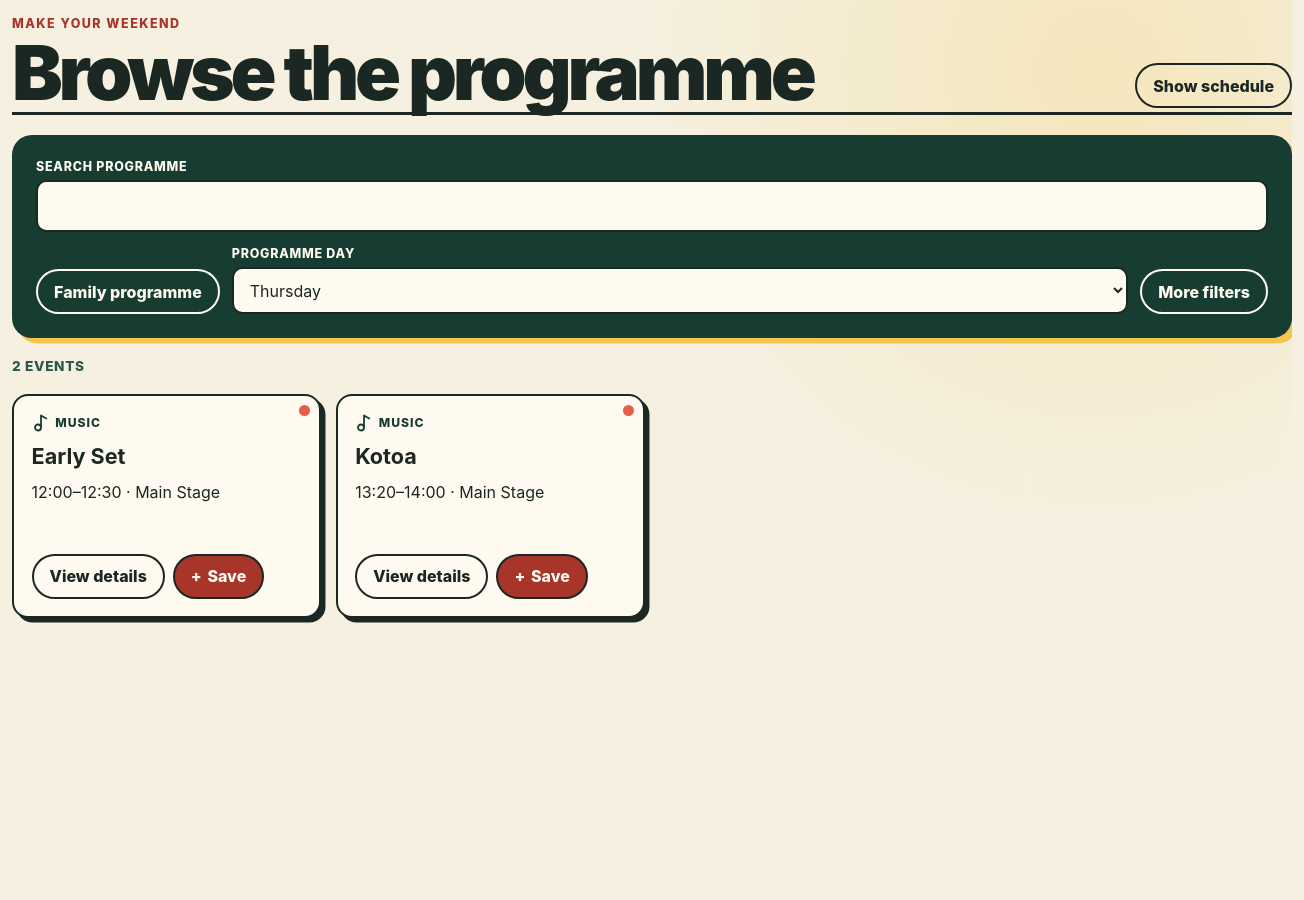
Test case: BrowseView › keeps before-festival phone schedules chronological without live controls
What coordinates should you click on to do the following:
click the button "Show schedule"
I would click on:
 (1214, 86)
Its box is [1135,63,1292,108].
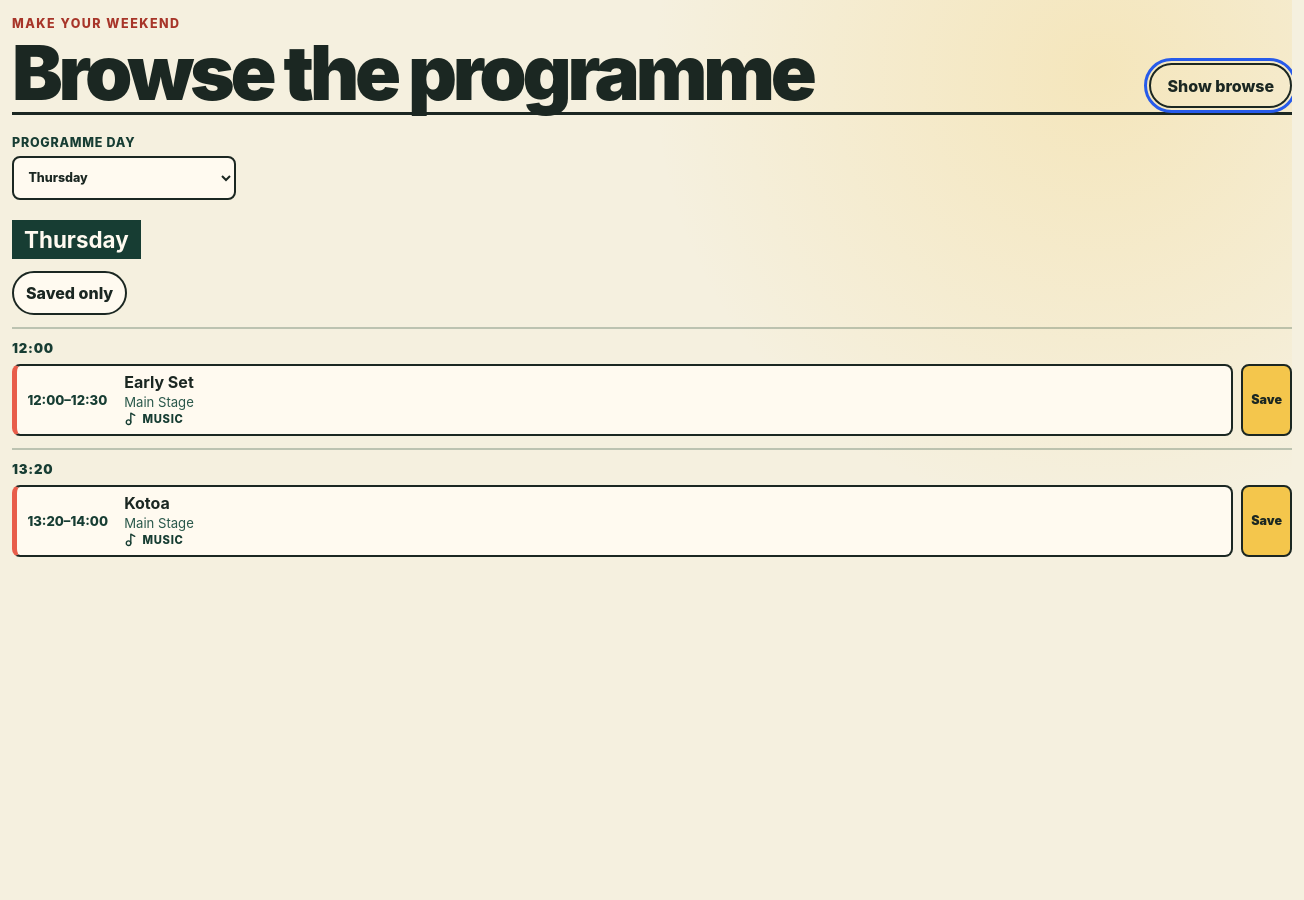
What coordinates should you click on to do the following:
click the button "Saved only"
I would click on:
 (70, 293)
Its box is [12,271,127,315].
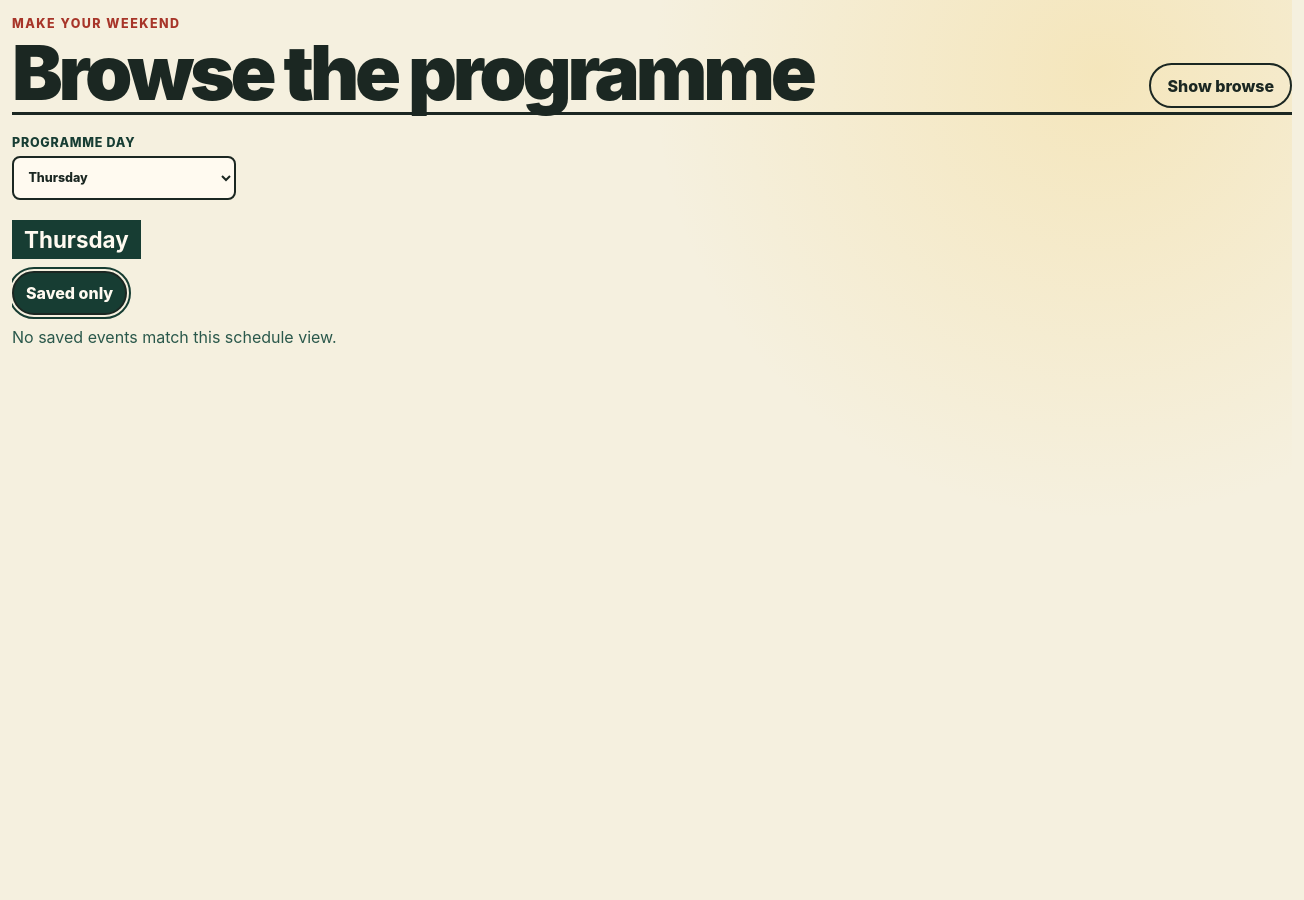
Result: the text "No saved events match this schedule view." is shown at [12,327,337,347]
